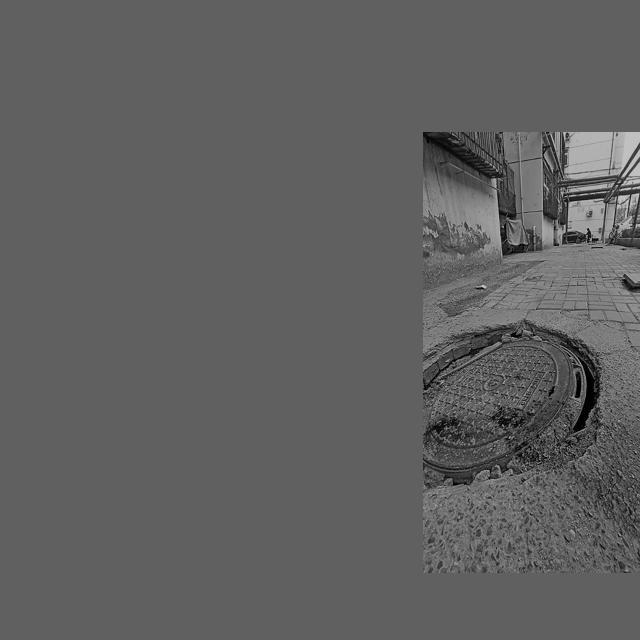circle: (424, 309, 612, 537)
